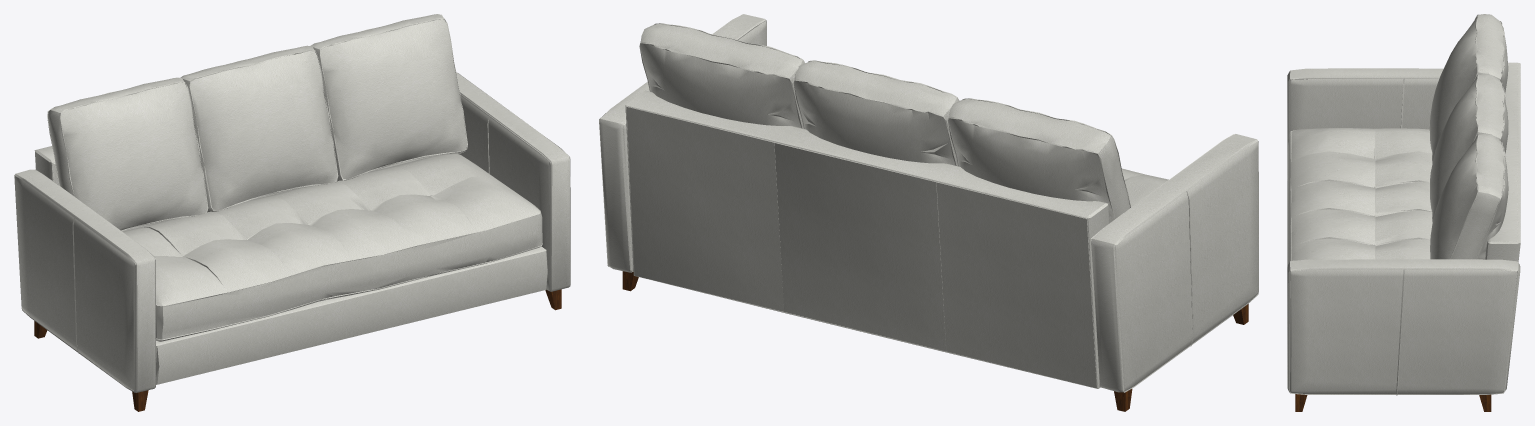
File: SM_Sofa_1.fbx
The picture shows the model from 3 angles, left to right: view 1: azimuth 30°, elevation 25°; view 2: azimuth 150°, elevation 25°; view 3: azimuth 270°, elevation 25°; orthographic projection. The views are drawn at different scales.
Visible parts, largest first — view 1: SM_Sofa_1; view 2: SM_Sofa_1; view 3: SM_Sofa_1.
Boxes of the visible parts, bbox=[...] form: SM_Sofa_1: bbox=[14, 14, 570, 411]; SM_Sofa_1: bbox=[599, 14, 1258, 411]; SM_Sofa_1: bbox=[1287, 14, 1520, 411].
Bounding box in the file's own units: 185 × 91.45 × 90.36.
2 materials, 2 textured.
